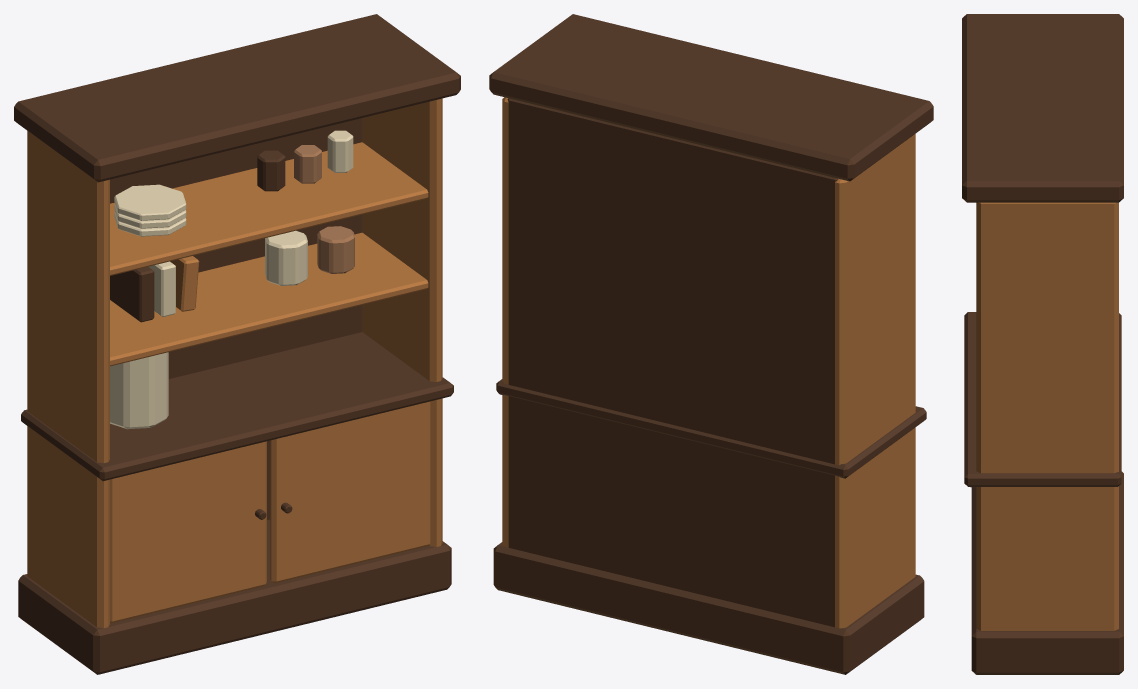
Rendered from prop_cupboard_shelves_a.glb.
3 renders of one model, left to right at view 1: azimuth 30°, elevation 25°; view 2: azimuth 150°, elevation 25°; view 3: azimuth 270°, elevation 25°, orthographic. The views are drawn at different scales.
Visible parts, largest first — view 1: cupboard_door_left, cupboard_back_panel, prop_book_1, prop_preserve_jar_2; view 2: cupboard_back_panel, cupboard_door_left; view 3: cupboard_door_left, cupboard_back_panel.
Boxes of the visible parts, box(x1,y1,x2,y2) form: cupboard_door_left: box(27, 98, 442, 627); cupboard_back_panel: box(14, 14, 460, 674); prop_book_1: box(110, 130, 353, 429); prop_preserve_jar_2: box(294, 145, 354, 273); cupboard_back_panel: box(489, 14, 933, 674); cupboard_door_left: box(502, 97, 915, 628); cupboard_door_left: box(976, 202, 1118, 630); cupboard_back_panel: box(962, 14, 1123, 674).
Bounding box in the file's own units: 1.7 × 2.3 × 0.6801.
